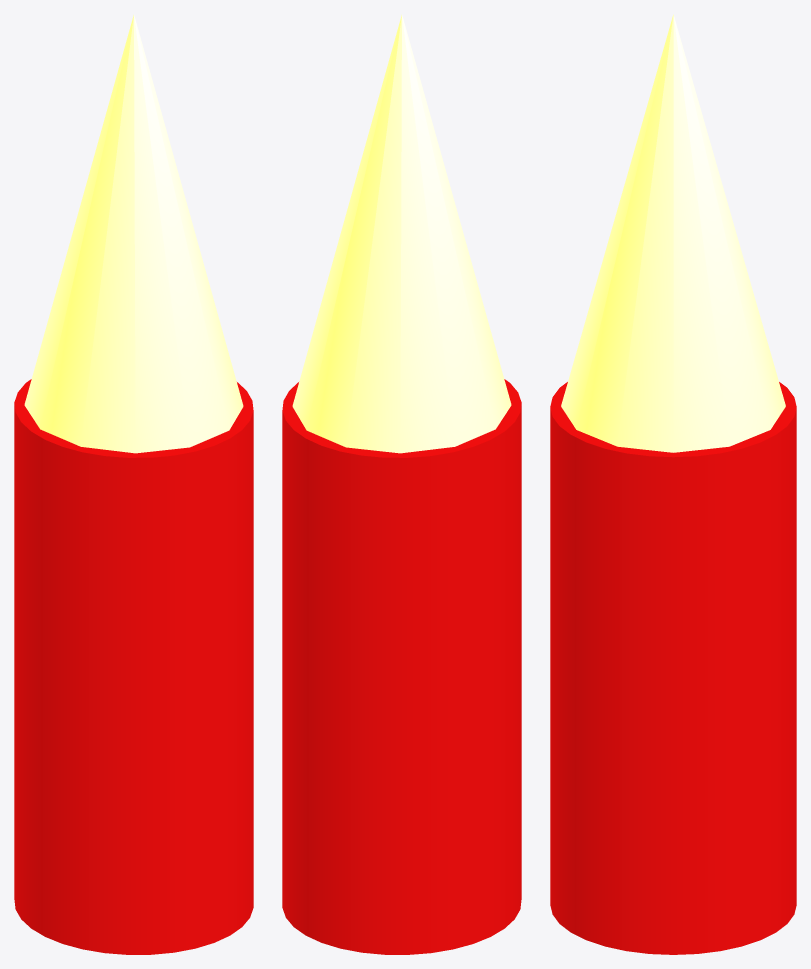
Rendered from 2bullet.glb.
3 renders of one model, left to right at view 1: azimuth 30°, elevation 25°; view 2: azimuth 150°, elevation 25°; view 3: azimuth 270°, elevation 25°, orthographic.
Visible parts, largest first — view 1: Cylinder, Lathe; view 2: Cylinder, Lathe; view 3: Cylinder, Lathe.
Boxes of the visible parts, <box> form: Cylinder: <box>14,379,253,954</box>; Lathe: <box>24,15,243,453</box>; Cylinder: <box>282,379,521,954</box>; Lathe: <box>292,15,511,453</box>; Cylinder: <box>550,382,796,954</box>; Lathe: <box>561,14,785,452</box>.
Size of the model in its own units: 0.284 by 1.18 by 0.2949.
